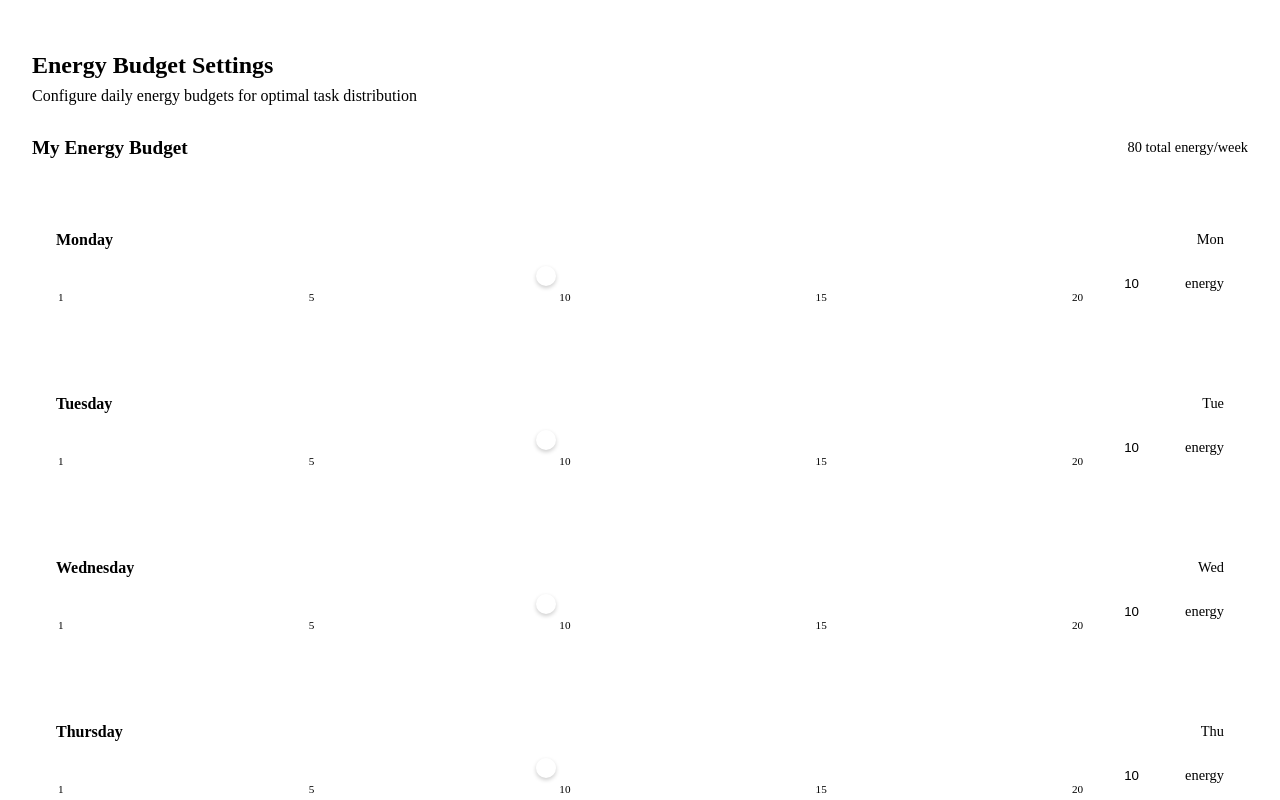
Test: EnergyBudgetSettings › keeps the weekly total numeric while a day input is cleared (BUG-UI-001)
Clear the number field with test id "energy-input-monday" at (1139, 284), box [1101,268,1177,299]
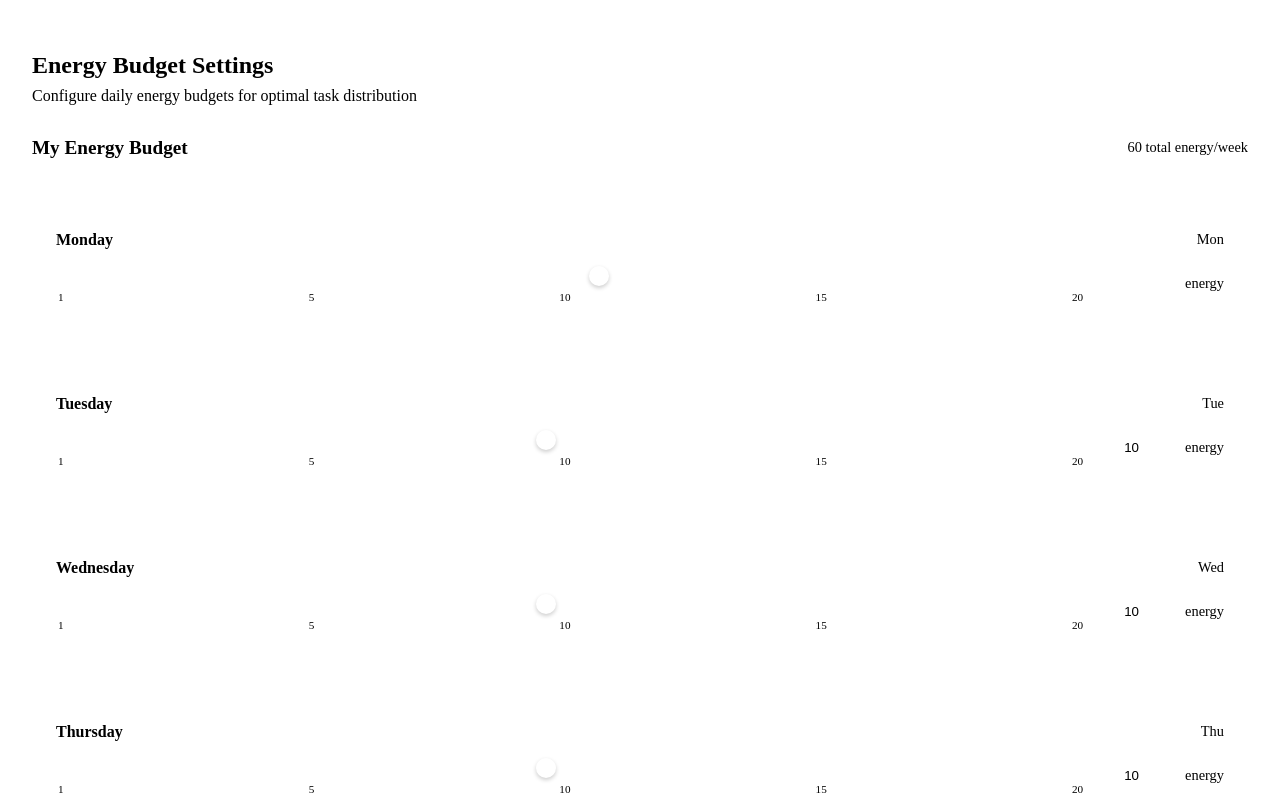
Check: the text with class "total-energy" reads "60 total energy/week", box [1128,139,1248,155]
